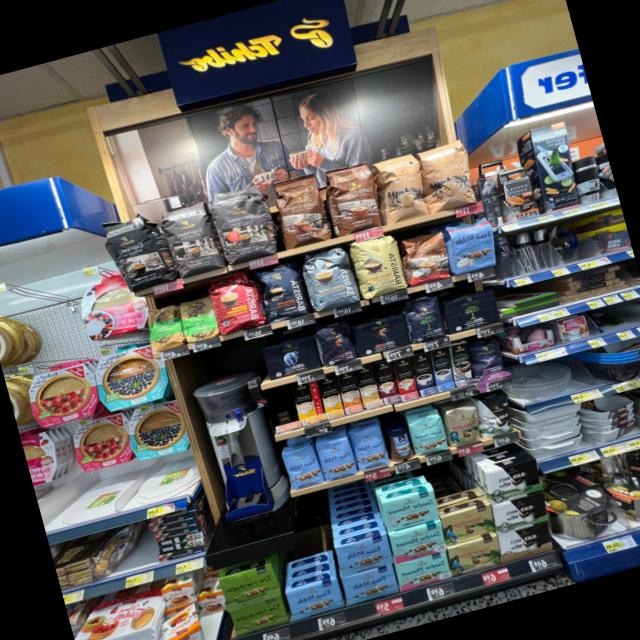AB Gemahlen: (257, 333, 325, 381)
Athiopien Bohne: (141, 303, 186, 354)
Athiopien Gemahlen: (176, 294, 220, 344)
BM Bohne: (398, 294, 450, 345)
BM Gemahlen: (441, 288, 501, 335)
BW Bohne: (475, 392, 515, 439)
BW Gemahlen: (486, 459, 544, 504), (497, 521, 555, 563), (492, 492, 549, 534)
Barista CB: (344, 230, 410, 302)
Barista CC: (294, 243, 363, 315)
Barista Espresso: (250, 257, 312, 325)
Barista Kolumbien: (202, 267, 266, 337)
C Fino Bohne: (468, 337, 509, 382)
CC Mild: (413, 135, 477, 213), (369, 151, 431, 226)
CC Vollmundig: (396, 226, 454, 287)
CC Vollmundig 36 Pads: (267, 172, 335, 251), (321, 160, 384, 236)
Colombia BB Bohne: (440, 403, 483, 448)
Colombia BB Gemahlen: (439, 502, 496, 546), (447, 534, 503, 576)
Empty Shelf: (276, 531, 337, 586), (263, 387, 302, 433)
Espresso Aromatisch: (203, 180, 281, 267), (155, 197, 229, 281)
Espresso Kraftig: (94, 209, 180, 296)
FM 36 Pads: (441, 213, 500, 277)
FM Bohne: (276, 440, 326, 492), (346, 422, 392, 473), (313, 434, 359, 483)
FM Gemahlen: (333, 533, 394, 579), (285, 577, 344, 622), (340, 563, 400, 607)
FM Instant: (382, 424, 416, 465)
Herzhatfe Mundig: (217, 563, 281, 612), (227, 595, 290, 636)
LG Bohne: (311, 318, 360, 368)
LG Gemahlen: (349, 312, 412, 359)
SM Bohne: (404, 409, 451, 458)
SM Gemahlen: (388, 521, 447, 564), (380, 490, 439, 532), (394, 550, 452, 592)
Simo CCMild: (289, 379, 325, 427)
Simo CCMild bigpack: (317, 374, 345, 420)
Simo CCVollmundig bigpack: (335, 370, 363, 415)
Simo Decaff: (354, 365, 382, 409)
Simo Es Brazil: (392, 355, 420, 401)
Simo Es Caramel: (372, 360, 402, 406)
Simo Es Elegant: (449, 341, 475, 386)
Simo Es Kraft: (410, 350, 439, 396)
Simo Es Vanilla: (428, 344, 456, 392)
